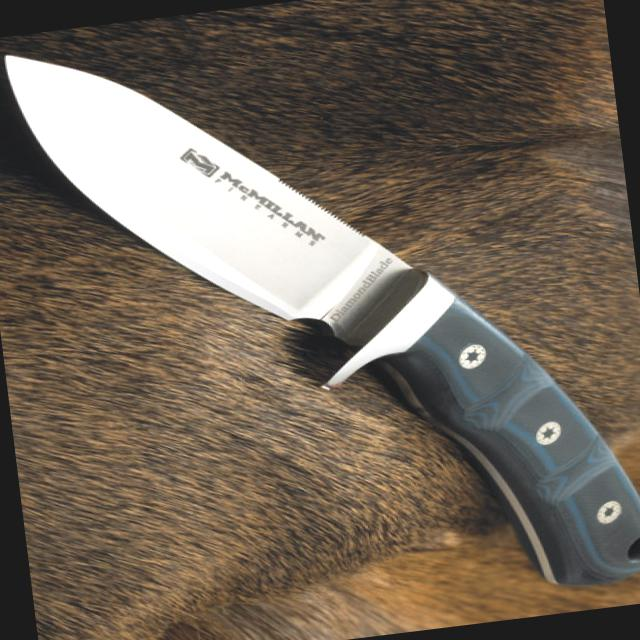knife: (0, 0, 442, 387)
